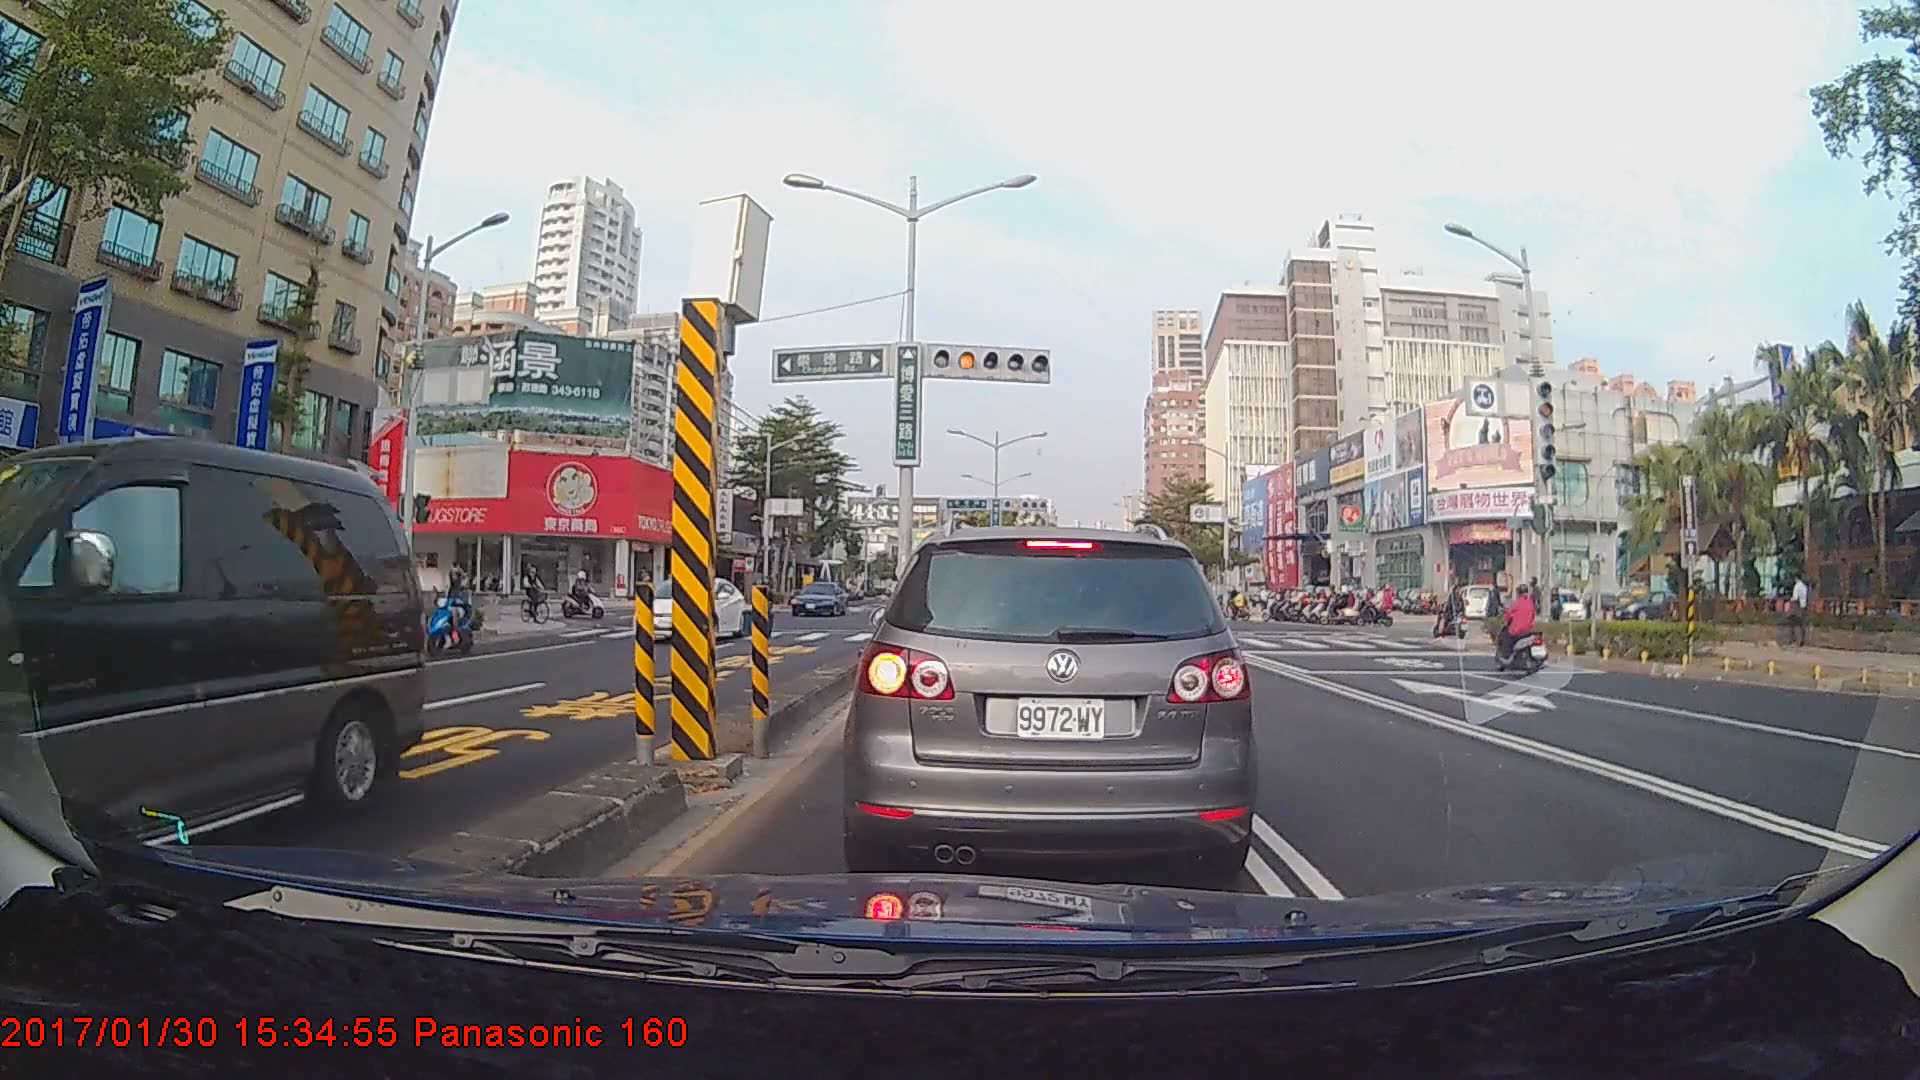pedestrian: (1784, 576, 1811, 648), (1484, 579, 1509, 637), (448, 558, 468, 621)
rider: (1493, 584, 1553, 675), (561, 568, 613, 625), (518, 559, 553, 629), (1436, 582, 1473, 646)
vehicle: (0, 437, 427, 889), (855, 520, 1252, 882), (632, 576, 747, 645), (789, 578, 845, 617)
